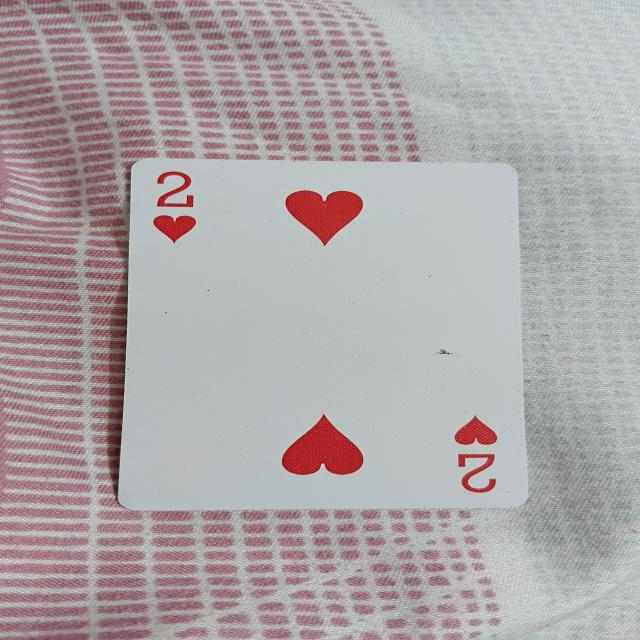2H: (122, 152, 530, 518)
